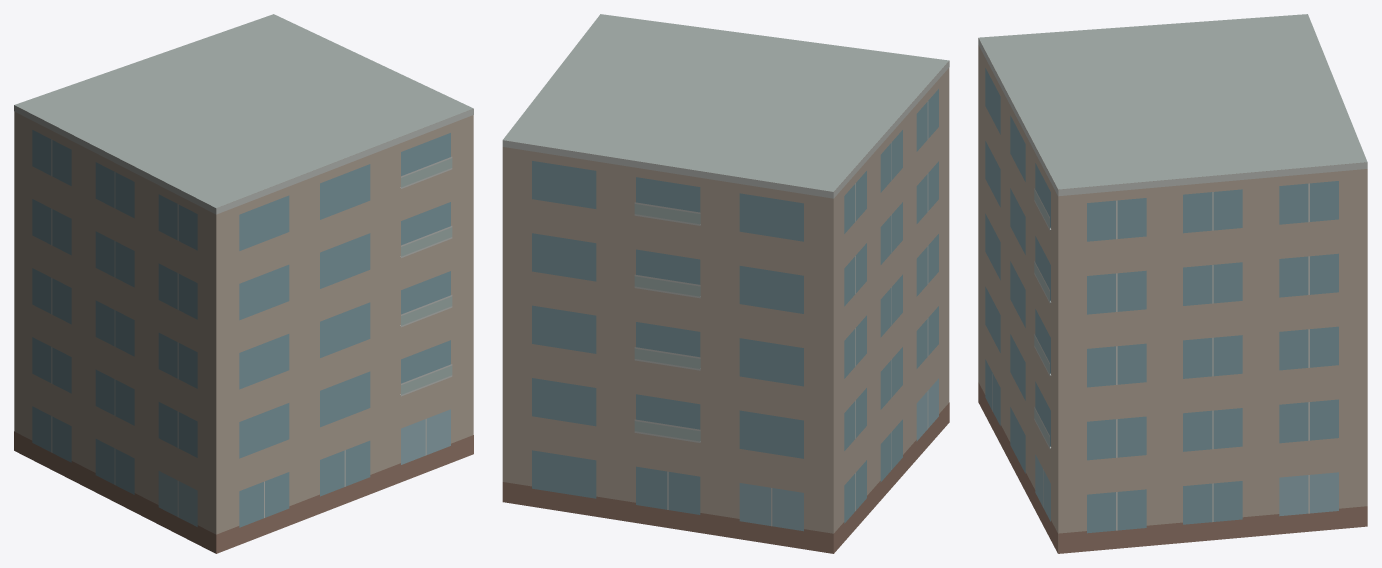
The model's file is survey-upis-32840592.glb.
The picture shows the model from 3 angles, left to right: view 1: azimuth 30°, elevation 25°; view 2: azimuth 150°, elevation 25°; view 3: azimuth 270°, elevation 25°; orthographic projection. The views are drawn at different scales.
Visible parts, largest first — view 1: survey-upis-32840592.tmp; view 2: survey-upis-32840592.tmp; view 3: survey-upis-32840592.tmp.
Part boxes in pixels (x1=…): survey-upis-32840592.tmp: x1=14, y1=14, x2=473, y2=553; survey-upis-32840592.tmp: x1=502, y1=14, x2=949, y2=553; survey-upis-32840592.tmp: x1=978, y1=14, x2=1367, y2=553.
Size of the model in its own units: 13.65 by 13.2 by 12.79.
